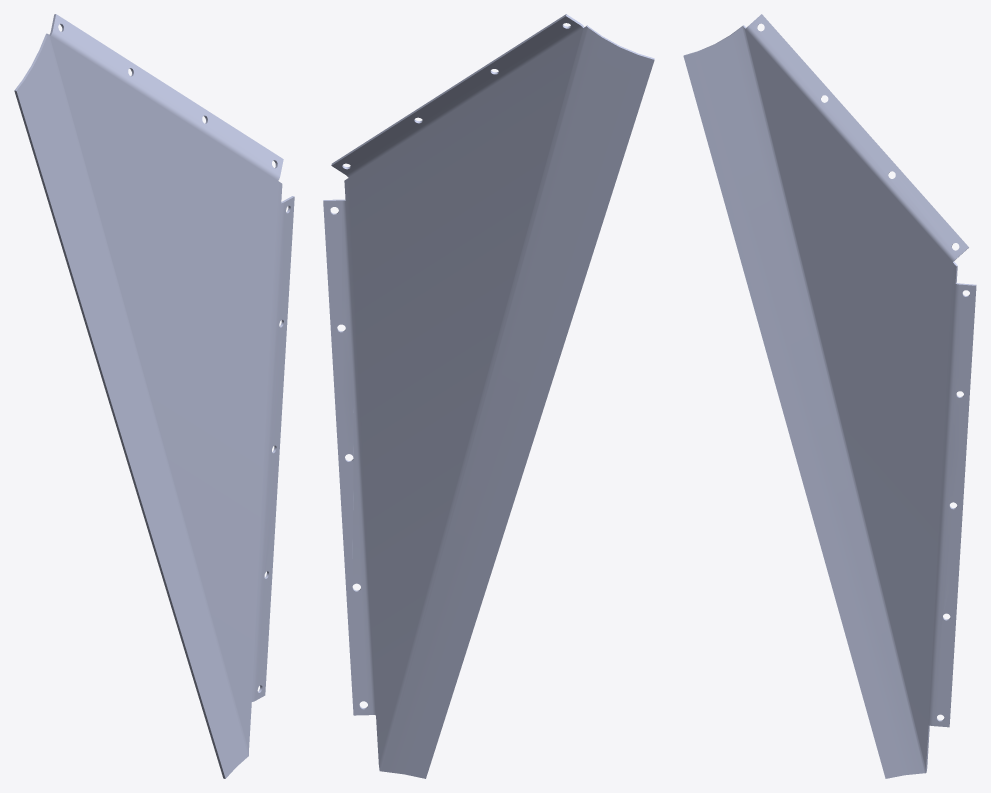
Rendered from Firewall__MirrorUA_26_Side_Firewall_2.dae.
3 views of the same model, side by side, from view 1: azimuth 30°, elevation 25°; view 2: azimuth 150°, elevation 25°; view 3: azimuth 330°, elevation 25° (orthographic). The views are drawn at different scales.
Visible parts, largest first — view 1: node0; view 2: node0; view 3: node0.
Boxes of the visible parts, x1,y1,x2,y2 form: node0: (14, 14, 294, 778); node0: (323, 14, 654, 778); node0: (683, 14, 976, 778).
Bounding box in the file's own units: 0.1649 × 0.4139 × 0.023.
